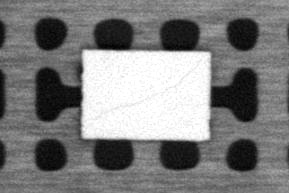DIE_CRACK: (105, 63, 197, 111)
